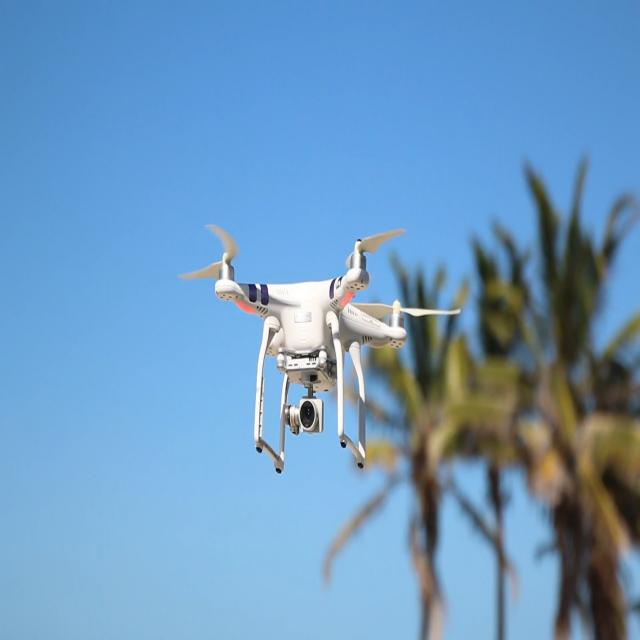Drone: (158, 192, 457, 463)
